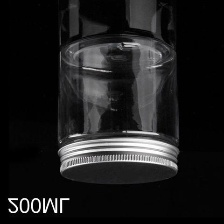plastic_box: (47, 27, 187, 191)
